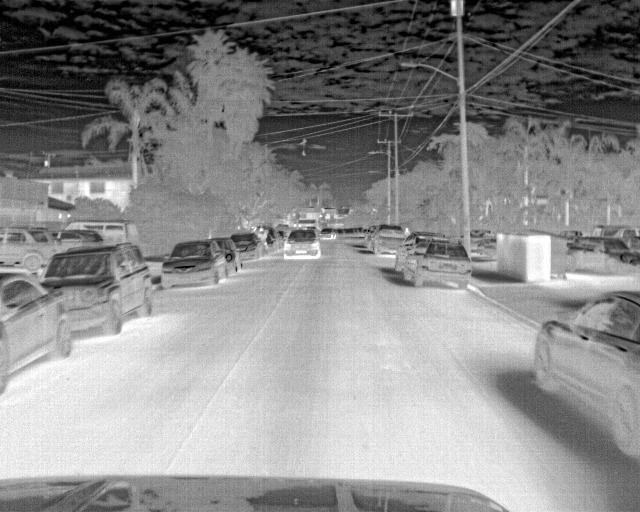car: (528, 292, 639, 466), (42, 241, 153, 342), (0, 266, 75, 393), (158, 237, 232, 291), (403, 239, 472, 290), (0, 225, 65, 272), (566, 234, 629, 274), (65, 219, 141, 249), (392, 233, 445, 275), (282, 226, 324, 257), (230, 230, 264, 262), (58, 228, 103, 249), (371, 228, 404, 255), (315, 226, 338, 240)
